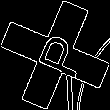P_NW: (25, 28, 85, 82)
